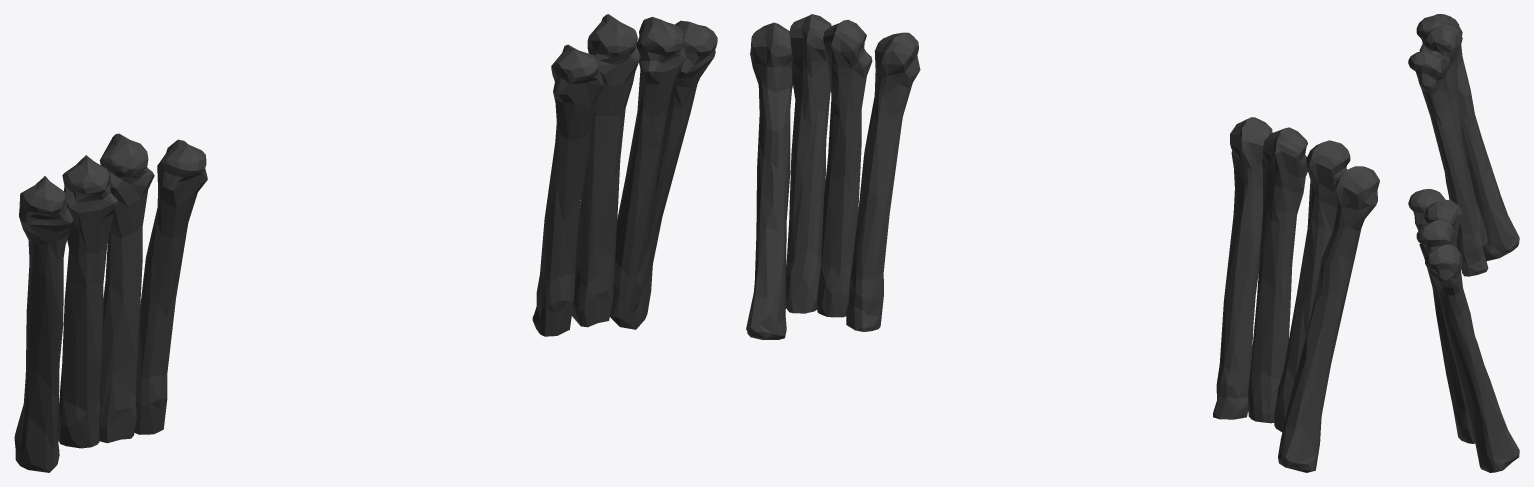
The model's file is b_metacarpals.glb.
3 renders of one model, left to right at view 1: azimuth 30°, elevation 25°; view 2: azimuth 150°, elevation 25°; view 3: azimuth 270°, elevation 25°, orthographic. The views are drawn at different scales.
Visible parts, largest first — view 1: b_metacarpals; view 2: b_metacarpals; view 3: b_metacarpals.
Part boxes in pixels (x1,y1,x2,y2): b_metacarpals: [14, 14, 717, 472]; b_metacarpals: [746, 14, 1379, 472]; b_metacarpals: [1408, 14, 1519, 472].
Bounding box in the file's own units: 0.0441 × 0.0209 × 0.00838.
Materials: 1 (1 with a texture image).
